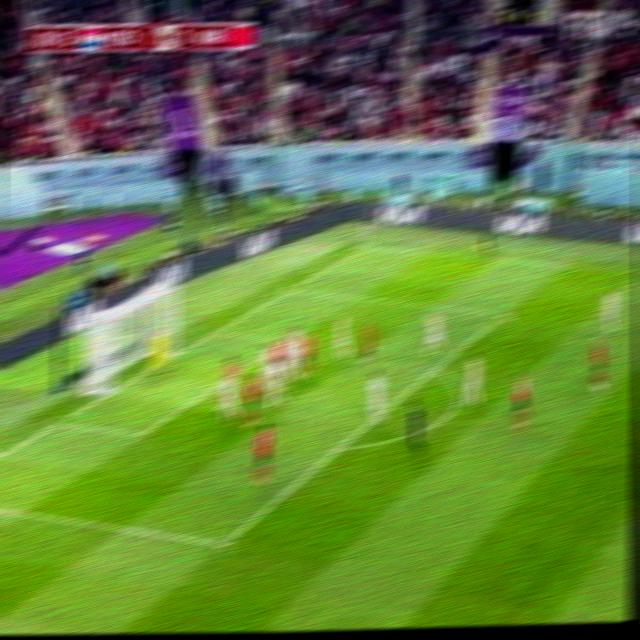bigarea_bottom_inner: (208, 528, 237, 558)
bigarea_top_inner: (492, 302, 513, 322)
bigarea_top_outter: (280, 280, 301, 297)
bottom_arc_area_intersection: (326, 435, 350, 457)
corner: (355, 240, 375, 253)
smallarea_bottom_inner: (128, 420, 154, 448)
smallarea_bottom_outter: (45, 410, 69, 432)
smallarea_top_outter: (206, 320, 227, 339)
top_arc_area_intersection: (425, 357, 446, 377)
